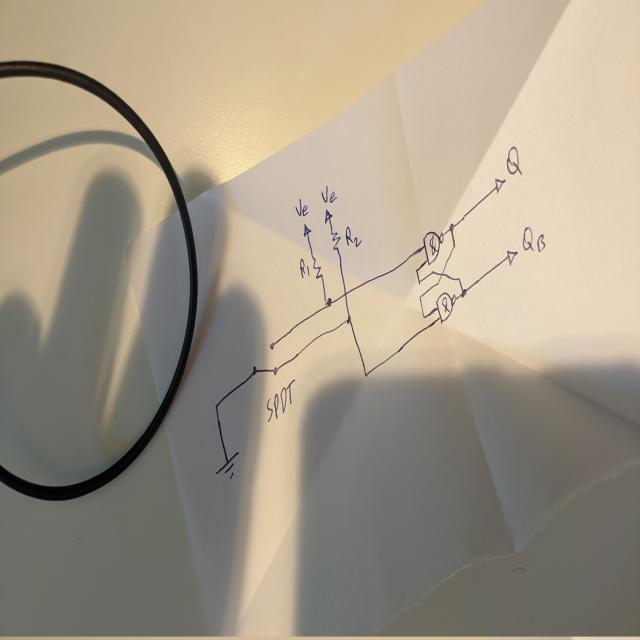crossover: (341, 286, 349, 300), (439, 272, 444, 277)
ground: (214, 448, 240, 481)
junction: (212, 396, 222, 415), (324, 296, 332, 308), (448, 220, 455, 232), (460, 286, 466, 298), (345, 314, 352, 324), (363, 368, 369, 378), (451, 240, 457, 250), (456, 274, 461, 284), (416, 276, 421, 284), (415, 264, 419, 274), (422, 311, 426, 319), (418, 292, 422, 299), (430, 269, 434, 275), (436, 281, 440, 287)
resistor: (311, 252, 324, 282), (330, 227, 341, 253)
source: (302, 221, 312, 237), (324, 208, 334, 224)
switch: (251, 339, 279, 378)
terminal: (493, 174, 506, 196), (505, 246, 518, 268)
text: (264, 377, 296, 423), (521, 226, 546, 253), (505, 144, 522, 177), (344, 225, 362, 248), (294, 196, 309, 218), (320, 184, 337, 203), (299, 257, 310, 279)
